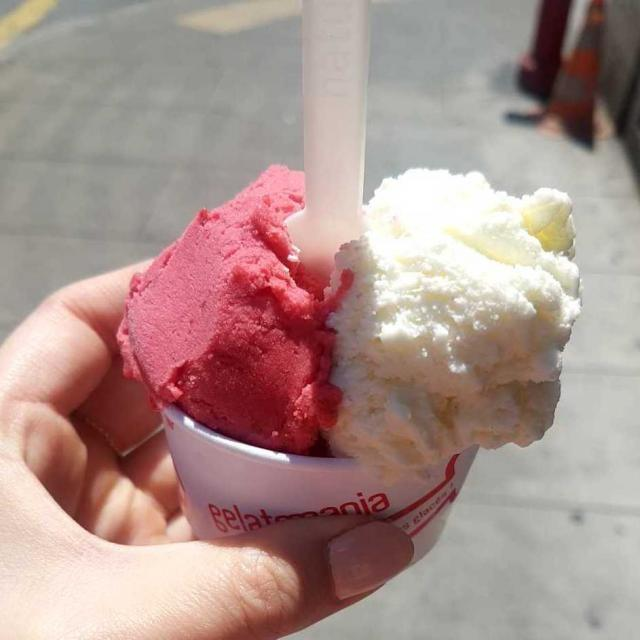ice-cream: (332, 168, 579, 470)
sorbet: (125, 171, 330, 449)
